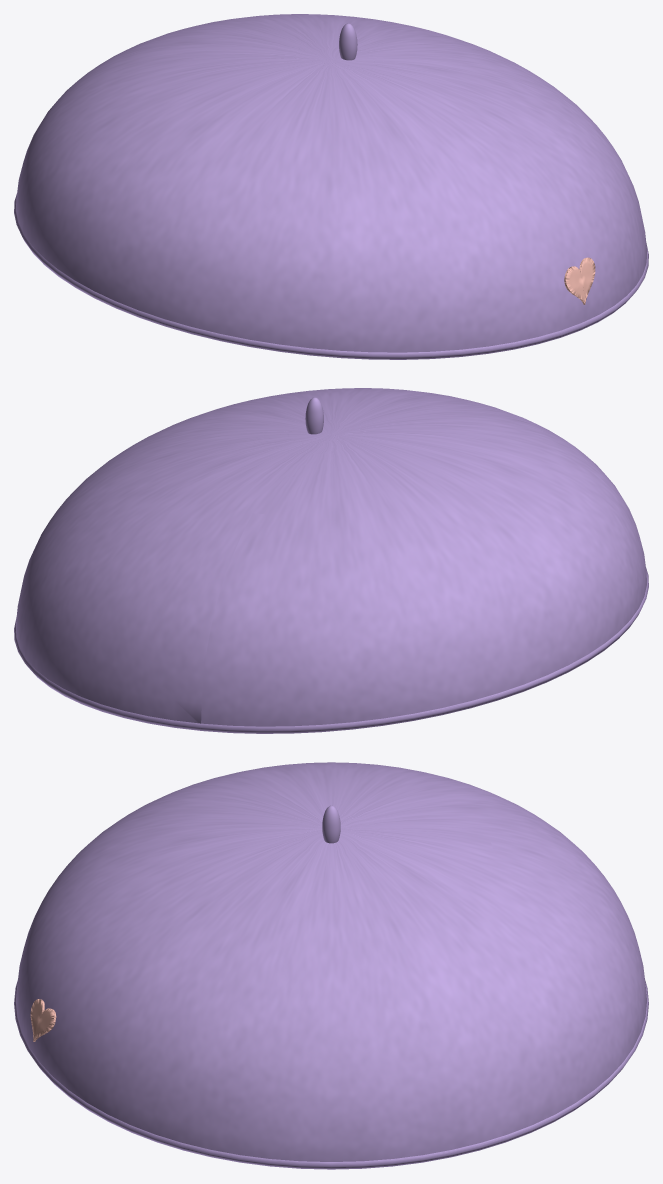
The model's file is restart_headfinish_beret_chic_chick.glb.
3 renders of one model, top to bottom at view 1: azimuth 30°, elevation 25°; view 2: azimuth 150°, elevation 25°; view 3: azimuth 270°, elevation 25°, orthographic.
Parts seen in each view (by area): view 1: Copa redondeada.015, Banda inferior.015, Corazón bordado.011, Rabito de boina.003; view 2: Copa redondeada.015, Banda inferior.015, Rabito de boina.003; view 3: Copa redondeada.015, Banda inferior.015, Corazón bordado.011, Rabito de boina.003.
Part boxes in pixels (x1,y1,x2,y2): Copa redondeada.015: [16, 14, 647, 352]; Banda inferior.015: [14, 194, 648, 359]; Corazón bordado.011: [564, 257, 595, 304]; Rabito de boina.003: [339, 23, 357, 60]; Copa redondeada.015: [15, 388, 646, 726]; Banda inferior.015: [14, 568, 648, 733]; Rabito de boina.003: [305, 397, 323, 434]; Copa redondeada.015: [16, 762, 646, 1161]; Banda inferior.015: [14, 980, 648, 1169]; Corazón bordado.011: [30, 999, 56, 1041]; Rabito de boina.003: [322, 805, 340, 843].
Size of the model in its own units: 0.8181 by 0.3402 by 0.8181.
2 materials, 2 textured.
